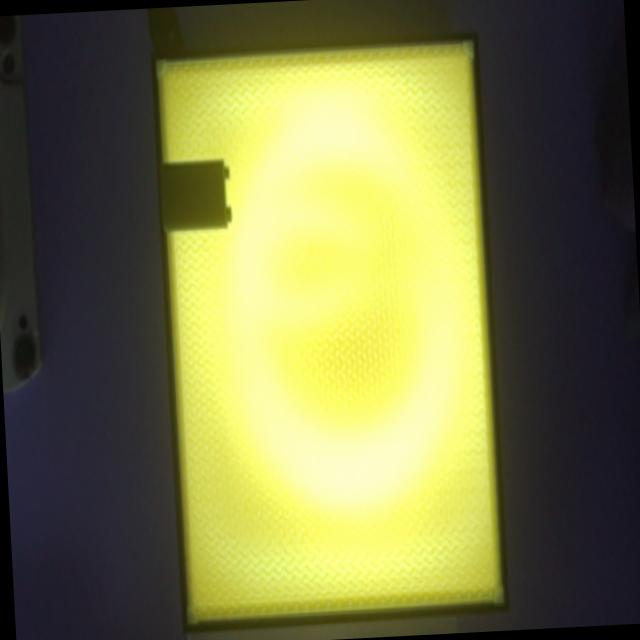bateria: (160, 159, 231, 233)
mesa: (150, 31, 509, 632)
